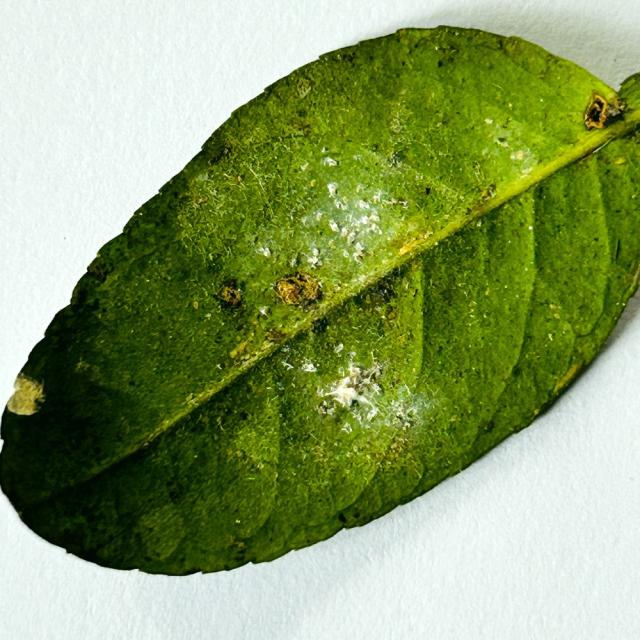Bacterial_Blight: (214, 267, 338, 321), (324, 363, 383, 410), (5, 372, 48, 416), (272, 271, 323, 307), (584, 92, 625, 130), (227, 442, 269, 477), (216, 280, 253, 314), (462, 187, 500, 219), (394, 229, 435, 257), (215, 279, 246, 308), (355, 362, 383, 390), (436, 285, 466, 305), (207, 144, 233, 166), (434, 44, 461, 65), (86, 260, 110, 283), (227, 533, 250, 557), (69, 283, 91, 307), (502, 37, 527, 58), (289, 119, 314, 137), (375, 282, 396, 303), (231, 338, 252, 359), (295, 76, 314, 99), (263, 329, 287, 346), (603, 104, 622, 124), (587, 101, 604, 123), (311, 316, 330, 335), (309, 445, 328, 462), (74, 360, 95, 375), (388, 150, 405, 168), (338, 51, 357, 65), (353, 248, 369, 264), (318, 400, 333, 416), (291, 251, 305, 268), (167, 488, 181, 502), (481, 419, 495, 433), (390, 120, 403, 134), (194, 196, 208, 206), (239, 410, 250, 421), (338, 512, 348, 524), (234, 541, 246, 551), (387, 310, 397, 320), (350, 399, 360, 408), (497, 136, 508, 143), (424, 187, 432, 196), (128, 379, 136, 387), (437, 60, 444, 68)
Lemon: (0, 26, 639, 580)
